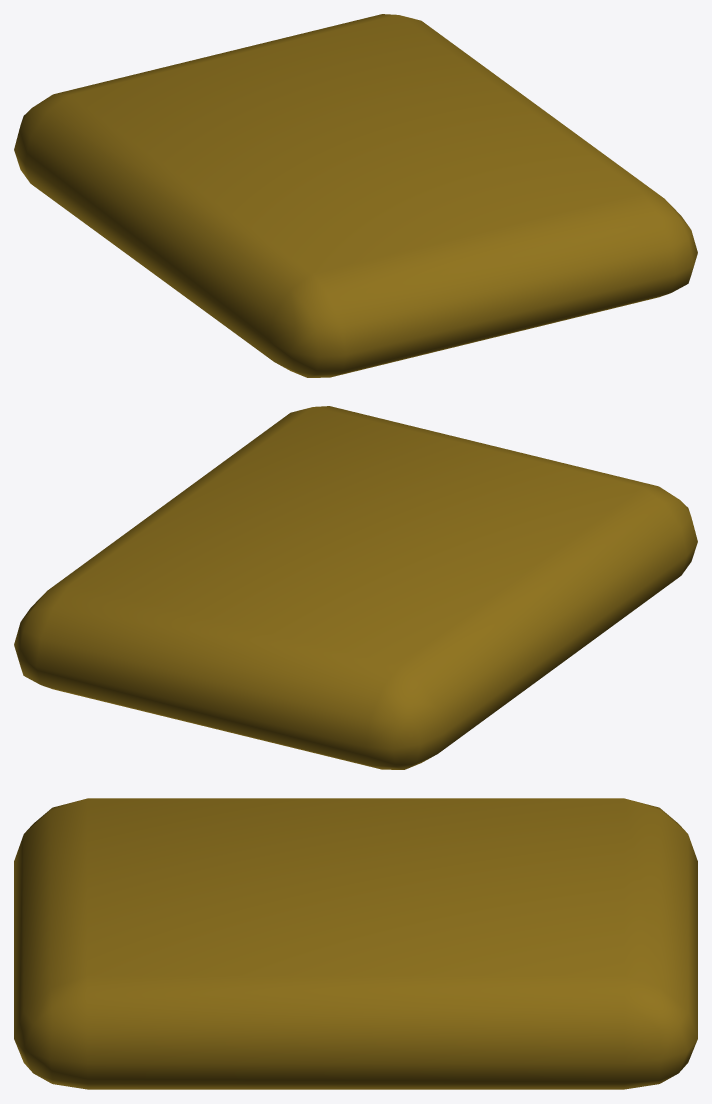
The model's file is Plateforme_rotative_m.fbx.
3 views of the same model, one above another, from view 1: azimuth 30°, elevation 25°; view 2: azimuth 150°, elevation 25°; view 3: azimuth 270°, elevation 25° (orthographic). The views are drawn at different scales.
Visible parts, largest first — view 1: Cube.013; view 2: Cube.013; view 3: Cube.013.
Boxes of the visible parts, <box> form: Cube.013: <box>14,14,697,377</box>; Cube.013: <box>14,406,697,769</box>; Cube.013: <box>14,798,697,1089</box>.
Size of the model in its own units: 499 by 106 by 639.
